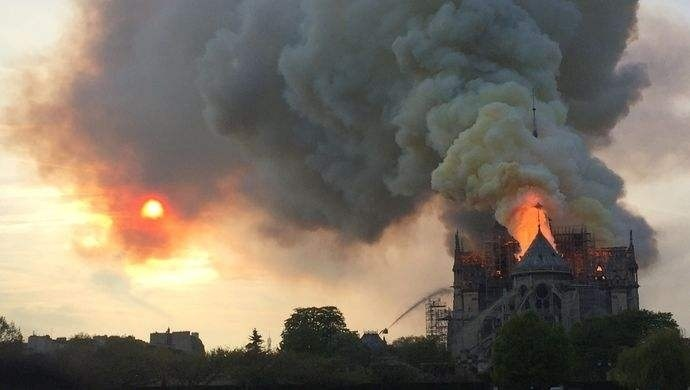fire: (511, 195, 555, 257)
